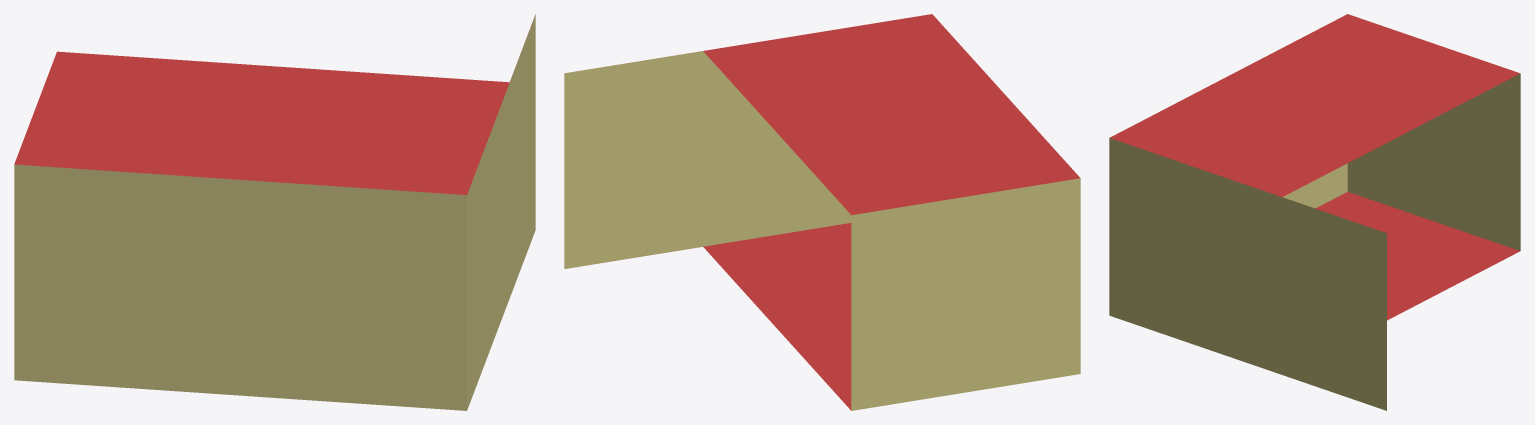
The picture shows the model from 3 angles, left to right: view 1: azimuth 30°, elevation 25°; view 2: azimuth 150°, elevation 25°; view 3: azimuth 270°, elevation 25°; orthographic projection. The views are drawn at different scales.
Bounding box in the file's own units: 17.74 × 14.07 × 6.71.
